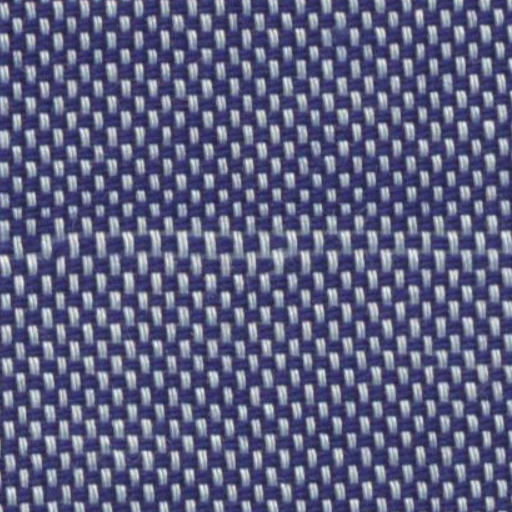TuoSha: (9, 210, 496, 308)
